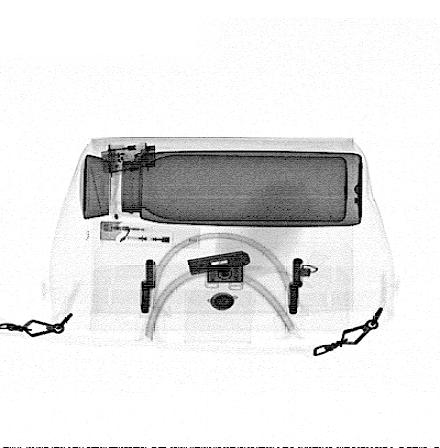Lighter: (100, 221, 200, 248)
